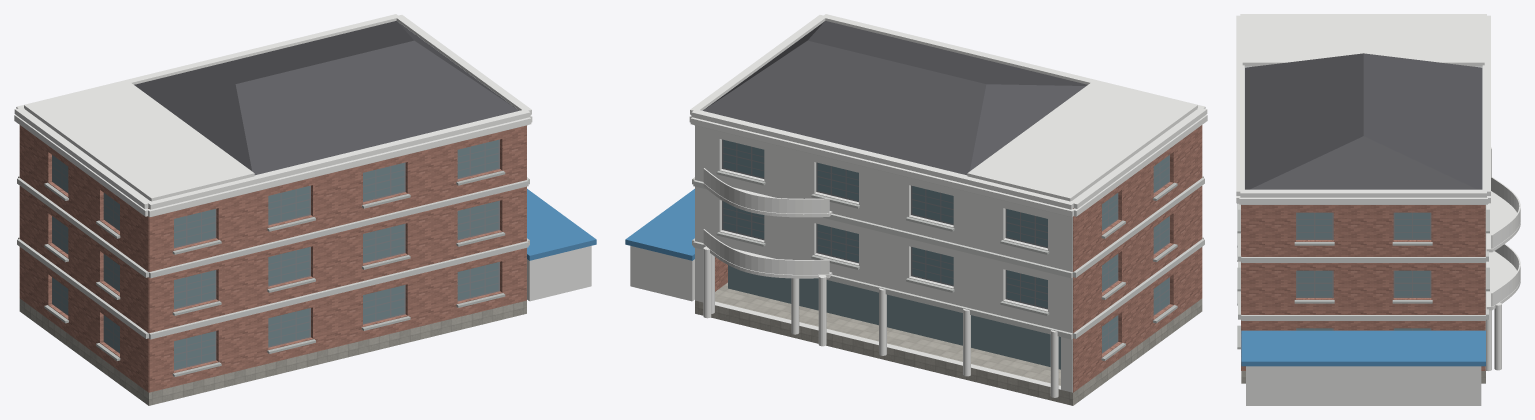
The picture shows the model from 3 angles, left to right: view 1: azimuth 30°, elevation 25°; view 2: azimuth 150°, elevation 25°; view 3: azimuth 270°, elevation 25°; orthographic projection. The views are drawn at different scales.
Parts seen in each view (by area): view 1: rose-annex__guardbrick, rose-annex__annexroof, rose-annex__cap, rose-annex__sideglass, rose-annex__band, rose-annex__stone, rose-annex__frame, rose-annex__sill, rose-annex__oldblue, rose-annex__panel; view 2: rose-annex__panel, rose-annex__cap, rose-annex__annexroof, rose-annex__guardbrick, rose-annex__stone, rose-annex__sideglass, rose-annex__glass, rose-annex__band, rose-annex__frame, rose-annex__oldblue, rose-annex__sill, rose-annex__pillar; view 3: rose-annex__annexroof, rose-annex__guardbrick, rose-annex__cap, rose-annex__panel, rose-annex__oldblue, rose-annex__sideglass, rose-annex__band, rose-annex__frame, rose-annex__sill, rose-annex__pillar, rose-annex__roof.
Part boxes in pixels (bbox=[...]): rose-annex__guardbrick: bbox=[19, 125, 526, 392]; rose-annex__annexroof: bbox=[134, 21, 518, 175]; rose-annex__cap: bbox=[14, 14, 532, 216]; rose-annex__sideglass: bbox=[52, 140, 498, 369]; rose-annex__band: bbox=[17, 125, 529, 339]; rose-annex__stone: bbox=[19, 298, 526, 405]; rose-annex__frame: bbox=[52, 139, 499, 370]; rose-annex__sill: bbox=[44, 171, 505, 376]; rose-annex__oldblue: bbox=[527, 189, 596, 260]; rose-annex__panel: bbox=[527, 246, 591, 301]; rose-annex__panel: bbox=[630, 125, 1072, 392]; rose-annex__cap: bbox=[689, 14, 1207, 346]; rose-annex__annexroof: bbox=[703, 21, 1087, 175]; rose-annex__guardbrick: bbox=[715, 125, 1202, 392]; rose-annex__stone: bbox=[695, 282, 1202, 405]; rose-annex__sideglass: bbox=[728, 155, 1169, 369]; rose-annex__glass: bbox=[723, 140, 1047, 307]; rose-annex__band: bbox=[692, 125, 1204, 339]; rose-annex__frame: bbox=[722, 139, 1169, 353]; rose-annex__oldblue: bbox=[625, 189, 694, 260]; rose-annex__sill: bbox=[716, 171, 1177, 360]; rose-annex__pillar: bbox=[711, 254, 1058, 397]; rose-annex__annexroof: bbox=[1245, 53, 1482, 189]; rose-annex__guardbrick: bbox=[1241, 205, 1485, 370]; rose-annex__cap: bbox=[1236, 14, 1520, 370]; rose-annex__panel: bbox=[1246, 205, 1485, 405]; rose-annex__oldblue: bbox=[1241, 330, 1485, 366]; rose-annex__sideglass: bbox=[1297, 212, 1429, 330]; rose-annex__band: bbox=[1238, 203, 1488, 320]; rose-annex__frame: bbox=[1296, 212, 1431, 330]; rose-annex__sill: bbox=[1237, 203, 1489, 349]; rose-annex__pillar: bbox=[1486, 147, 1491, 370]; rose-annex__roof: bbox=[1244, 66, 1482, 189].
Size of the model in its own units: 26.32 by 13.21 by 15.12.
14 materials, 2 textured.
